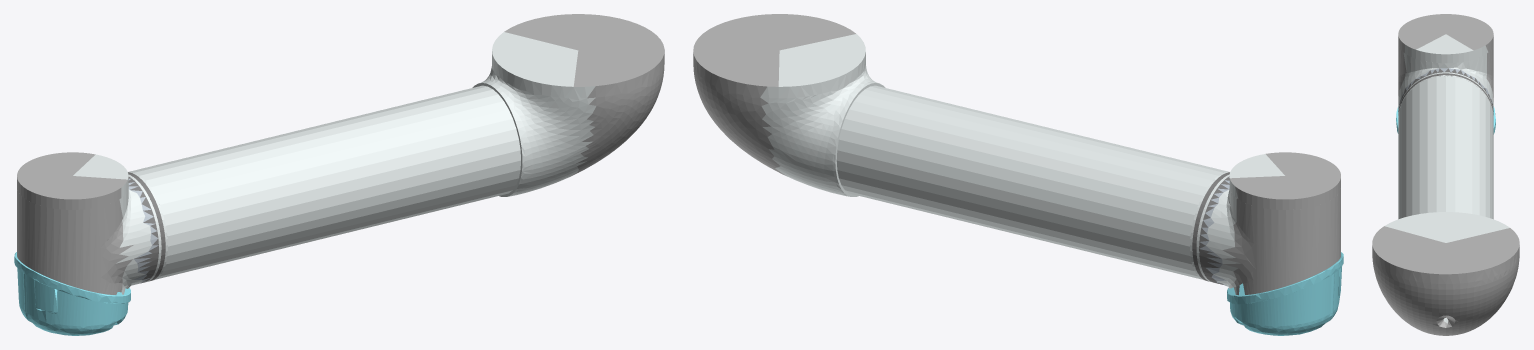
File: UR5eLink3.dae
3 views of the same model, side by side, from view 1: azimuth 30°, elevation 25°; view 2: azimuth 150°, elevation 25°; view 3: azimuth 270°, elevation 25° (orthographic). The views are drawn at different scales.
Visible parts, largest first — view 1: UR5eLink3; view 2: UR5eLink3; view 3: UR5eLink3.
Boxes of the visible parts, x1=… form: UR5eLink3: x1=14, y1=14, x2=664, y2=335; UR5eLink3: x1=693, y1=14, x2=1343, y2=335; UR5eLink3: x1=1372, y1=14, x2=1519, y2=335.
Size of the model in its own units: 0.4895 by 0.116 by 0.1077.
